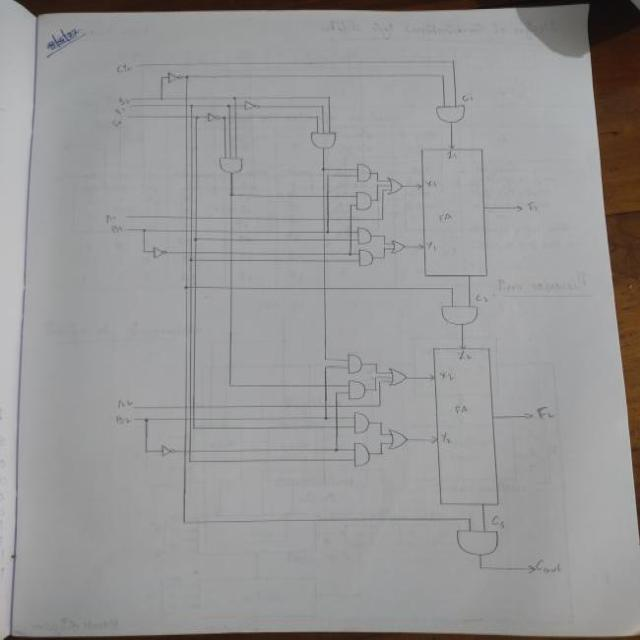Figure Detection - v3 Dataset Version2: (93, 48, 584, 587)
